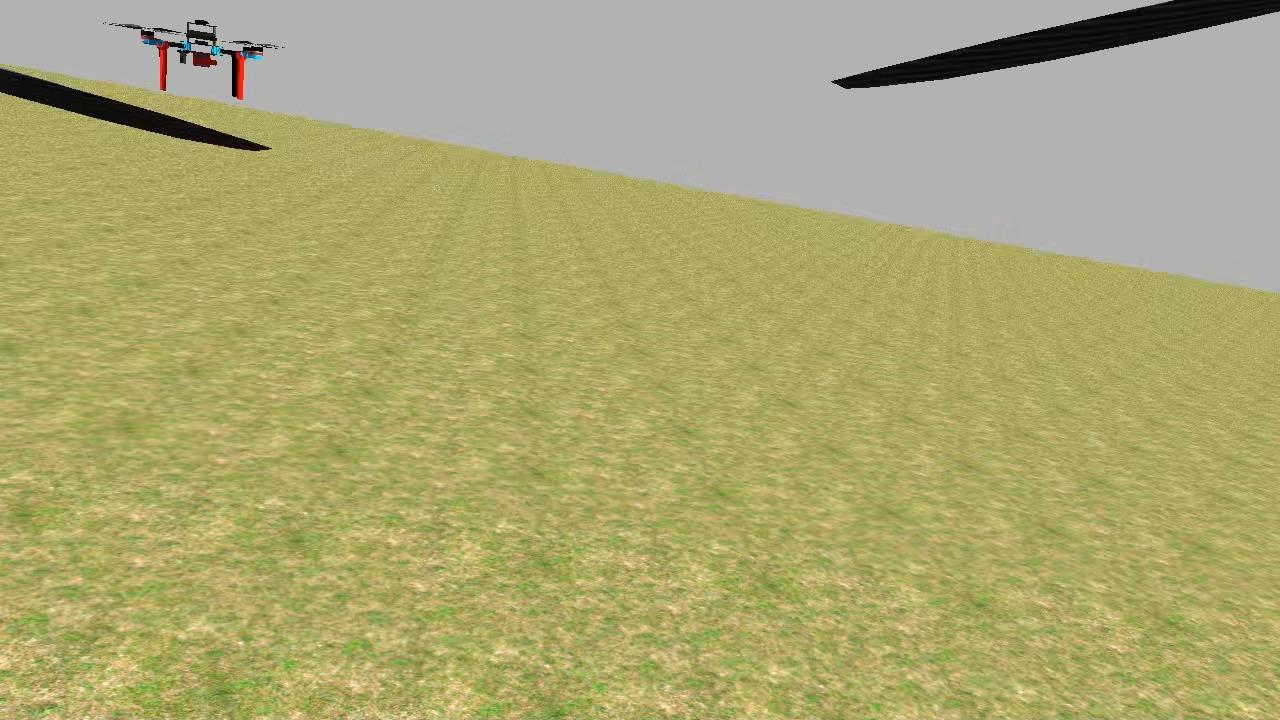UAV: (127, 3, 279, 107)
